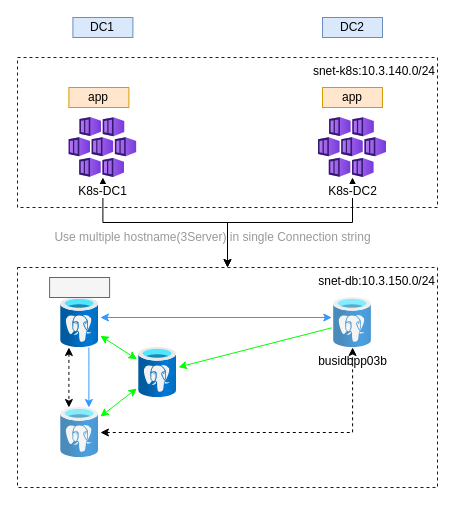
The diagram is 455 pixels wide and 505 high, and some of its shapes have lost their labels. Each missing label, with the centre of its shape:
busidbpp01b: the point at 79,322
busidbpp02b: the point at 79,432
busidbpp04b witness: the point at 157,372
db: the point at 79,287
